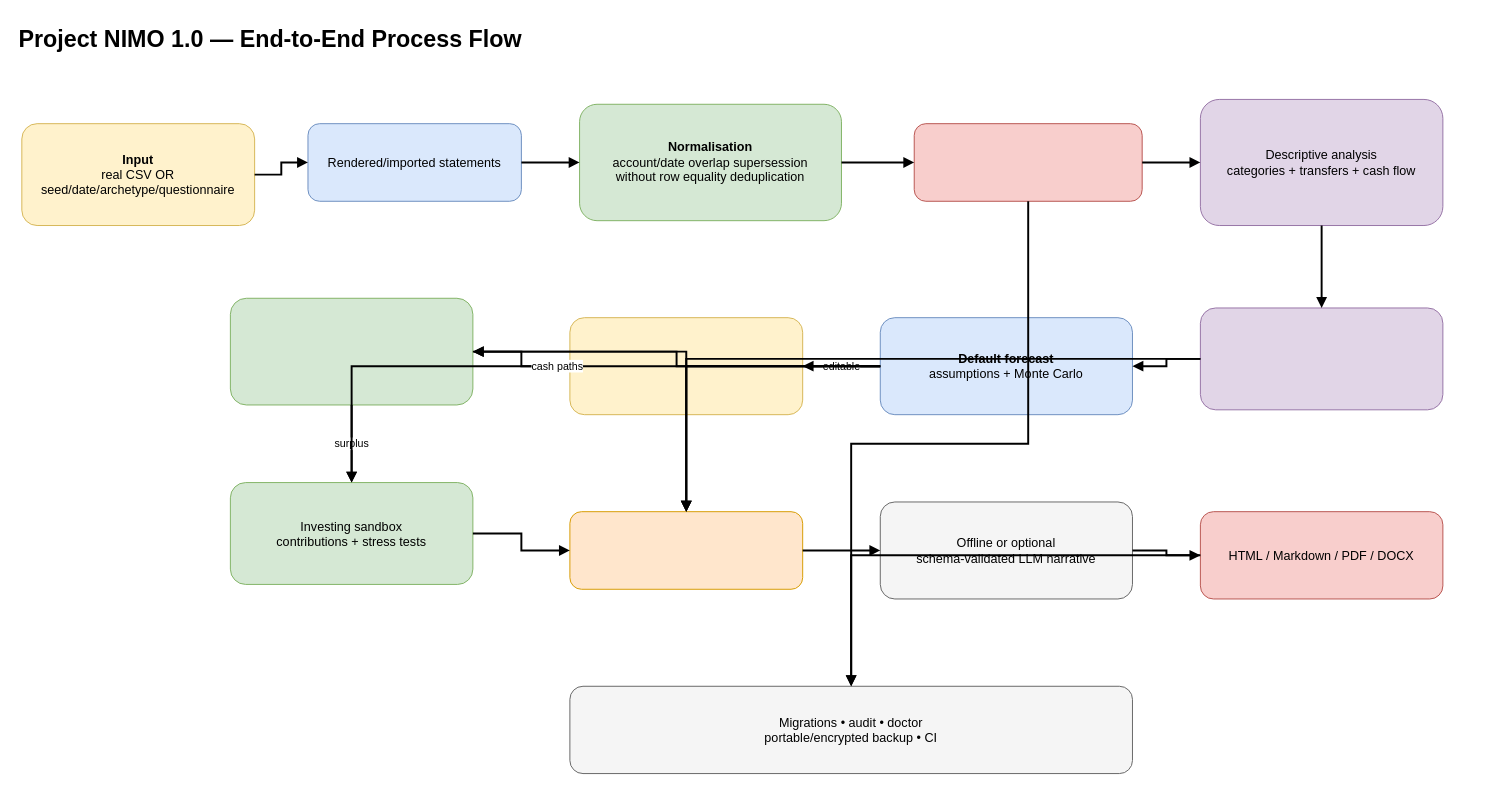
Image size: 1507x791. Some labels were removed from this diagram. Each missing label, with the centre of its shape:
Behavioural map periodic / distributional / spontaneous: pixel 1321 358
Budgets + goals probabilities + interventions: pixel 351 351
Canonical per-user database: pixel 1027 162
Frozen structured evidence: pixel 686 550
User scenarios overrides + future events: pixel 686 366
